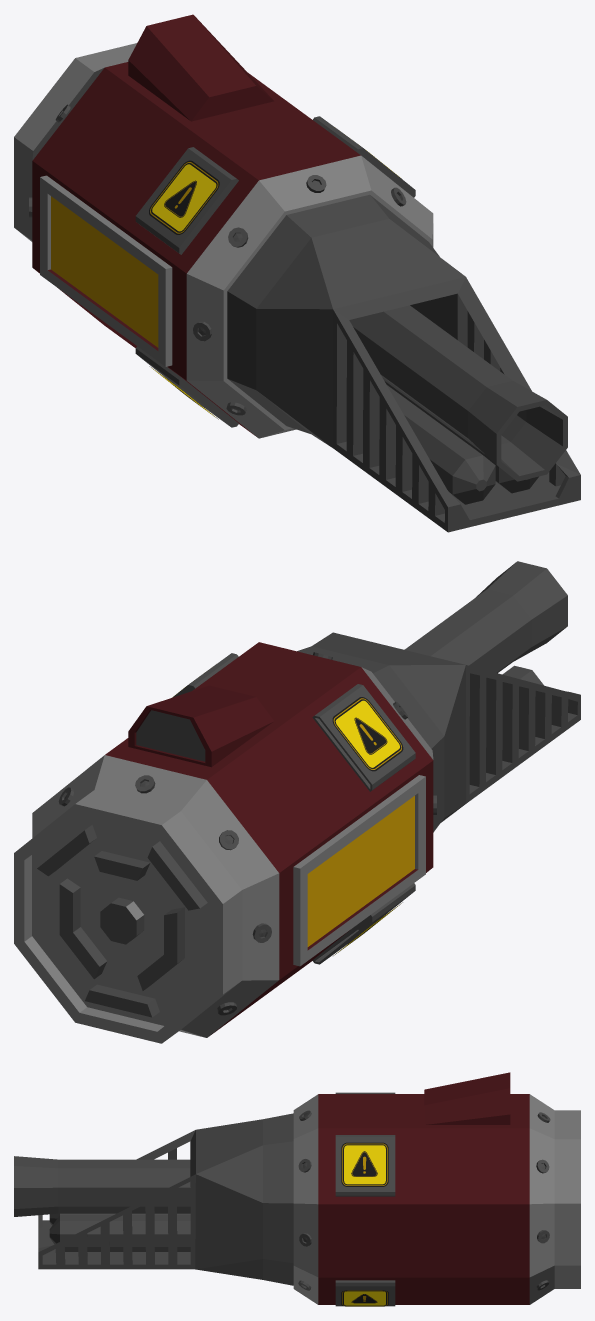
The model's file is GrenadeLauncher.fbx.
3 renders of one model, top to bottom at view 1: azimuth 30°, elevation 25°; view 2: azimuth 150°, elevation 25°; view 3: azimuth 270°, elevation 25°, orthographic. The views are drawn at different scales.
Visible parts, largest first — view 1: Body, BarrelCover, Barrel, Barrel.001, Plane, Barrel.002; view 2: Body, BarrelCover, Barrel, Plane, EjectionHatch; view 3: Body, BarrelCover, Barrel, Barrel.002, Plane.001, Plane.003.
Part boxes in pixels (box(x1,y1,x2,y2)): Body: box(14, 14, 433, 438); BarrelCover: box(227, 194, 580, 532); Barrel: box(349, 305, 567, 481); Barrel.001: box(387, 385, 495, 504); Plane: box(149, 160, 219, 234); Barrel.002: box(382, 377, 538, 493); Body: box(14, 642, 433, 1043); BarrelCover: box(297, 632, 580, 832); Barrel: box(404, 561, 567, 673); Plane: box(332, 697, 403, 771); EjectionHatch: box(136, 710, 205, 761); Body: box(293, 1072, 580, 1306); BarrelCover: box(38, 1113, 293, 1285); Barrel: box(14, 1156, 190, 1216); Barrel.002: box(49, 1215, 190, 1251); Plane.001: box(341, 1142, 388, 1186); Plane.003: box(341, 1290, 388, 1306).
Bounding box in the file's own units: 1.9 × 2.17 × 5.37.
